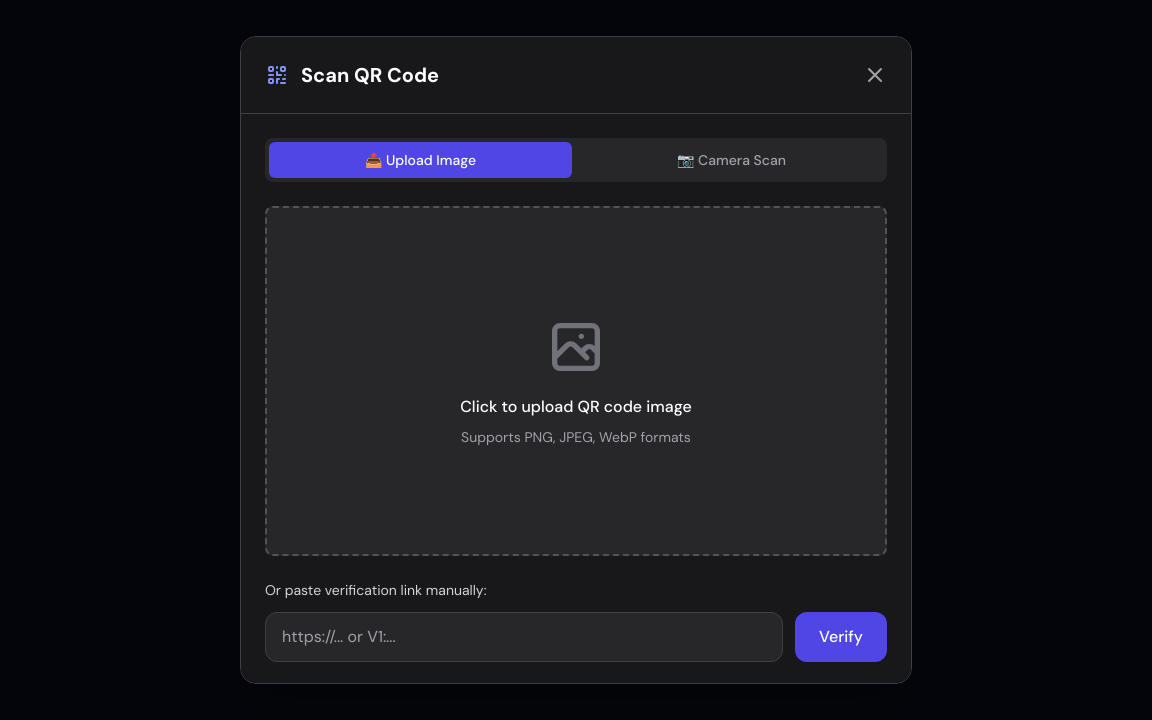
QRScanner › shows token validation errors
Type "https://example.com/verify?v=v1.expired" into the field with placeholder "https://... or V1:..." at x=524, y=637, box [265,612,783,662]
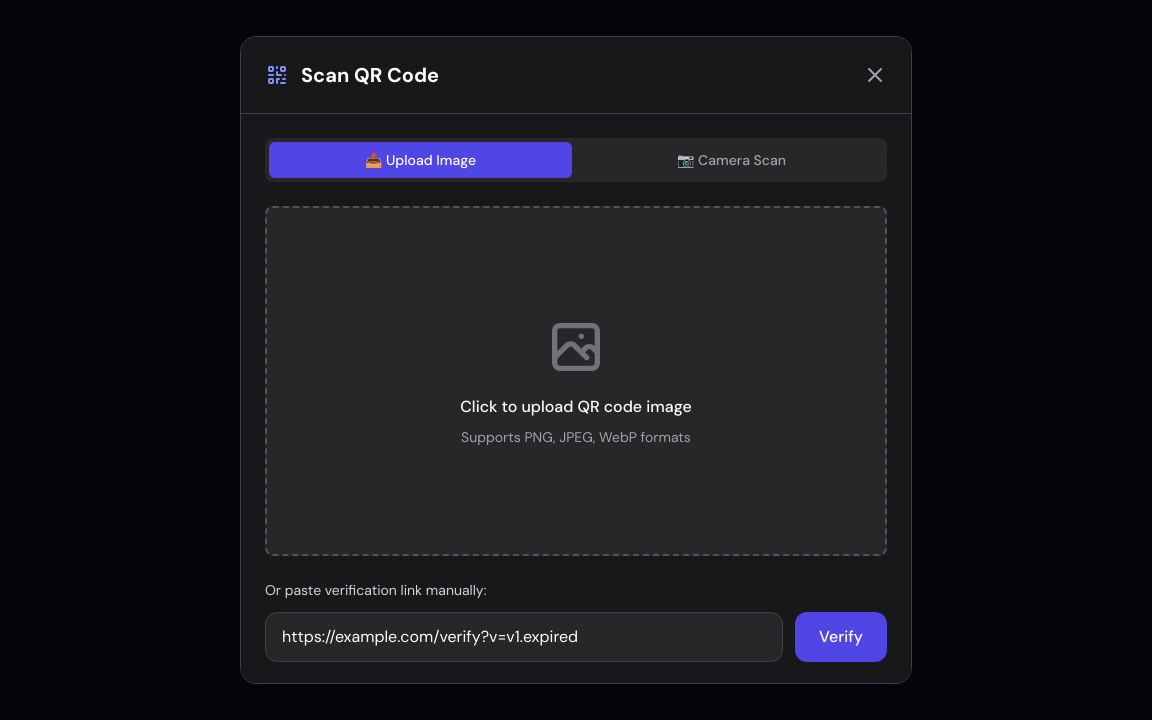
Click the button "Verify" at x=841, y=637, box [795,612,887,662]
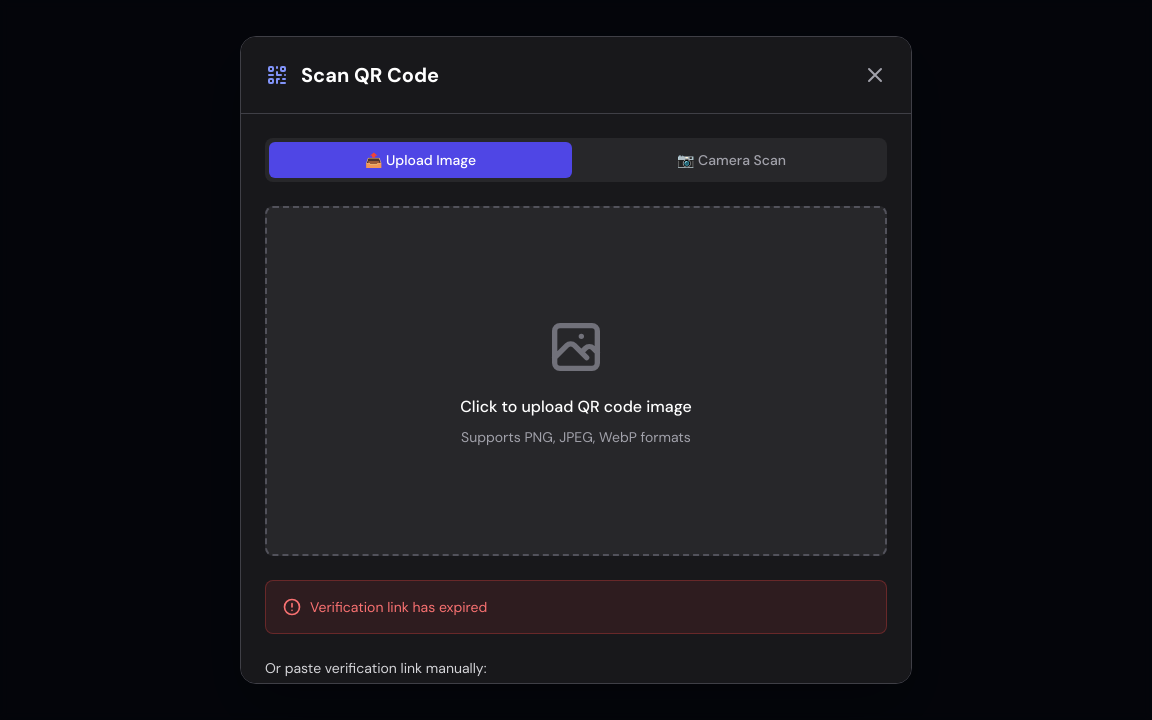
Expected: the text "Verification link has expired" is shown, [282,597,487,617]
